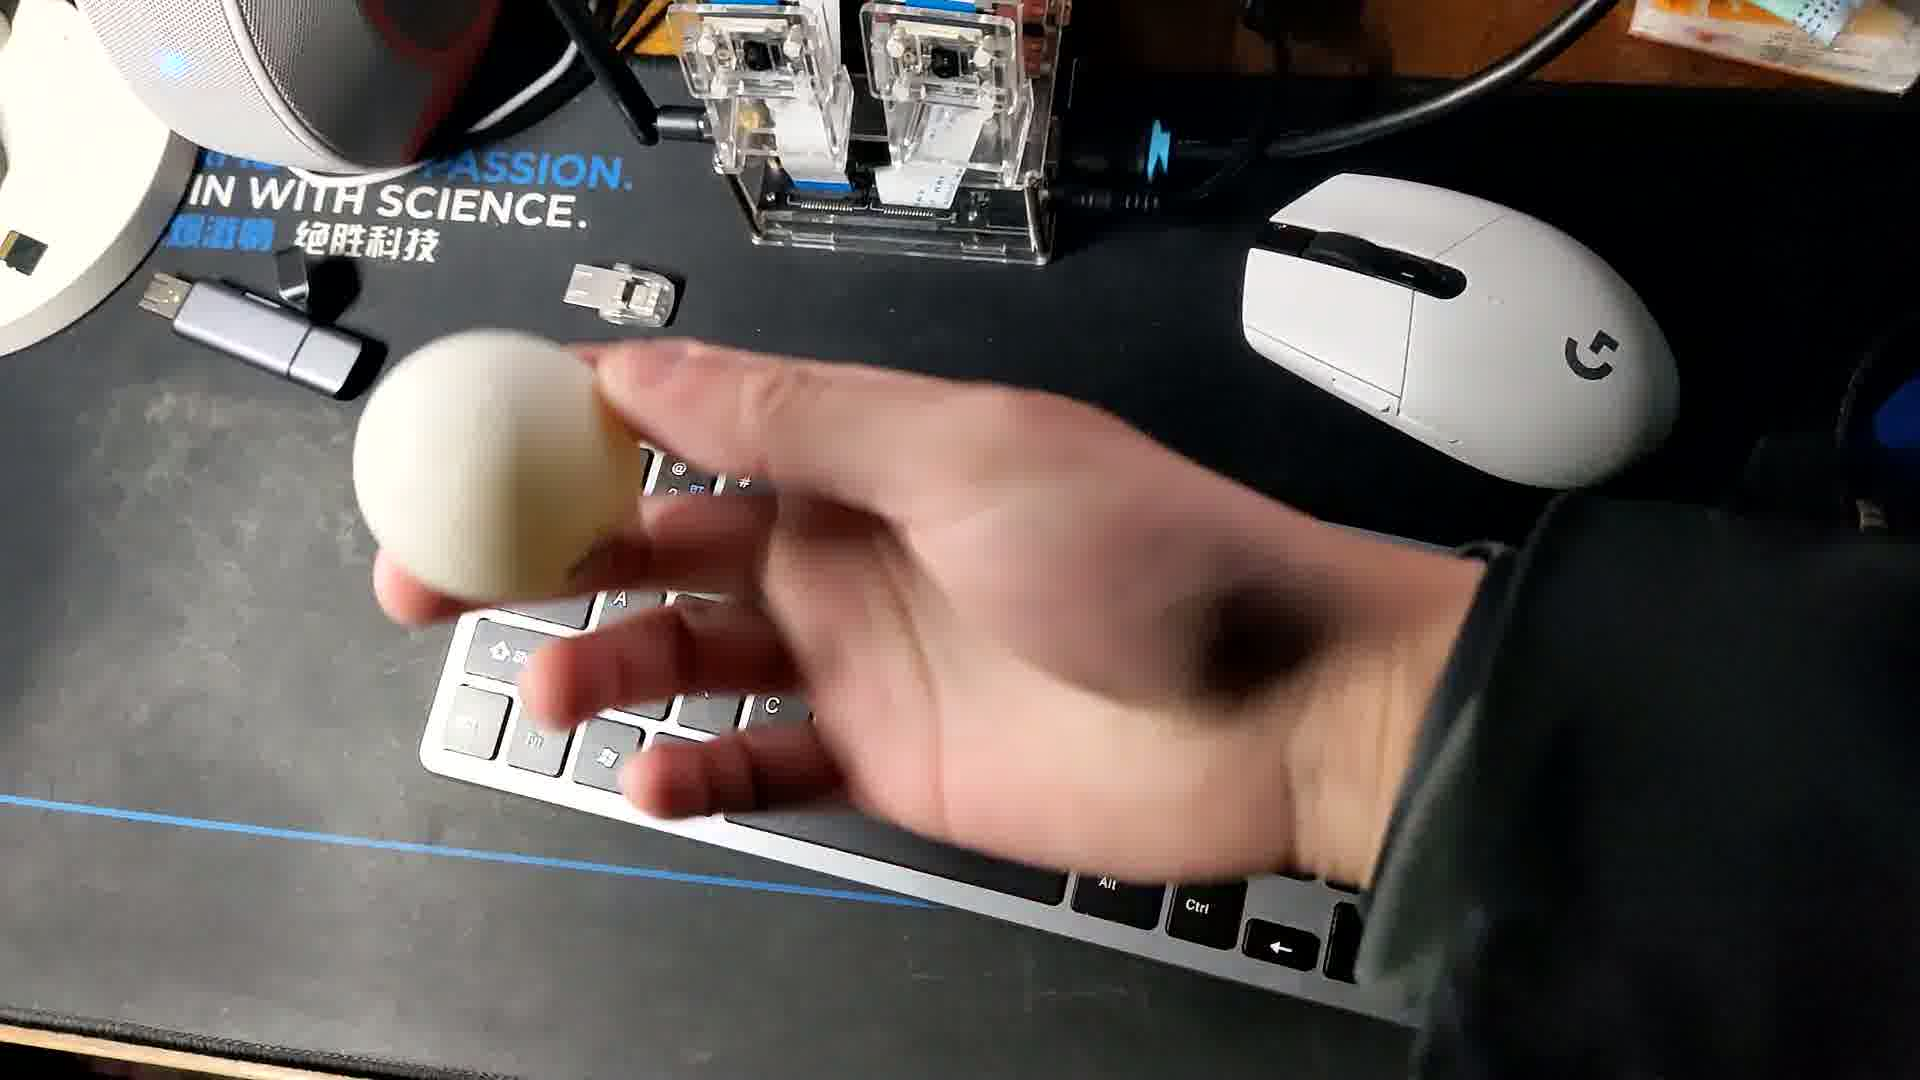Ball: (357, 328, 640, 611)
